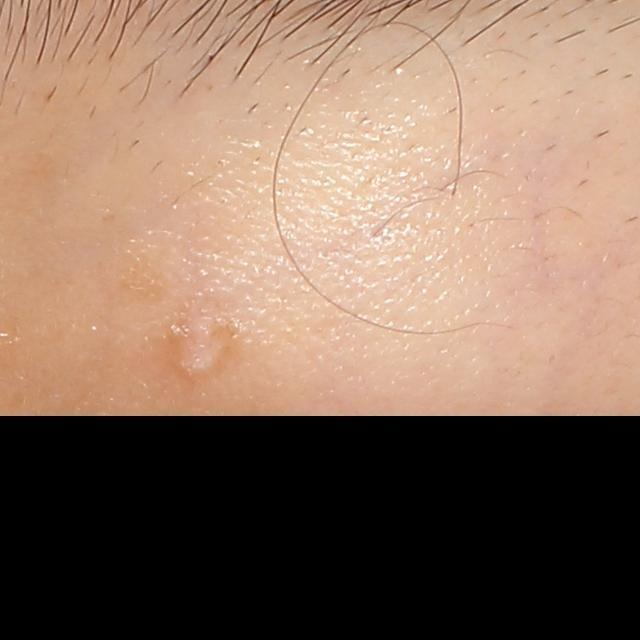other: (164, 289, 254, 388)
